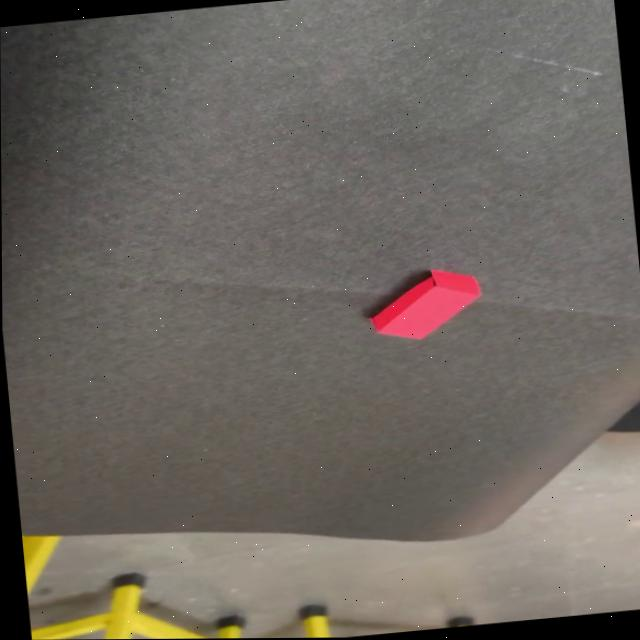red block: (362, 265, 485, 346)
